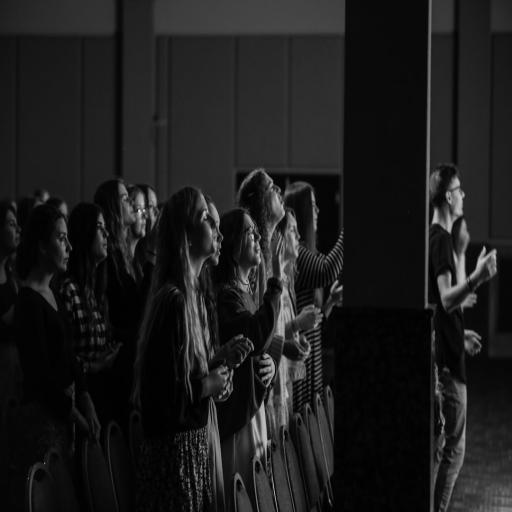face: (192, 190, 218, 258), (261, 170, 285, 218), (242, 215, 261, 270), (54, 222, 72, 273), (116, 182, 135, 228), (92, 216, 110, 261), (286, 216, 300, 258), (134, 192, 146, 240), (8, 212, 22, 247)
